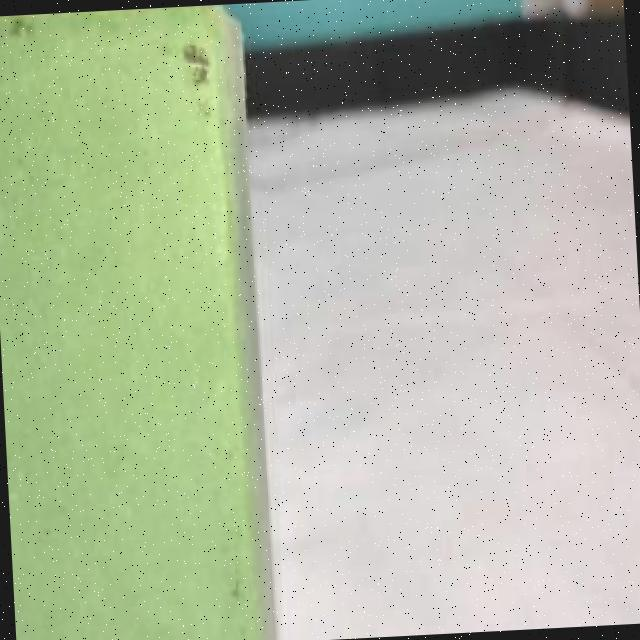greenbox: (0, 3, 274, 640)
